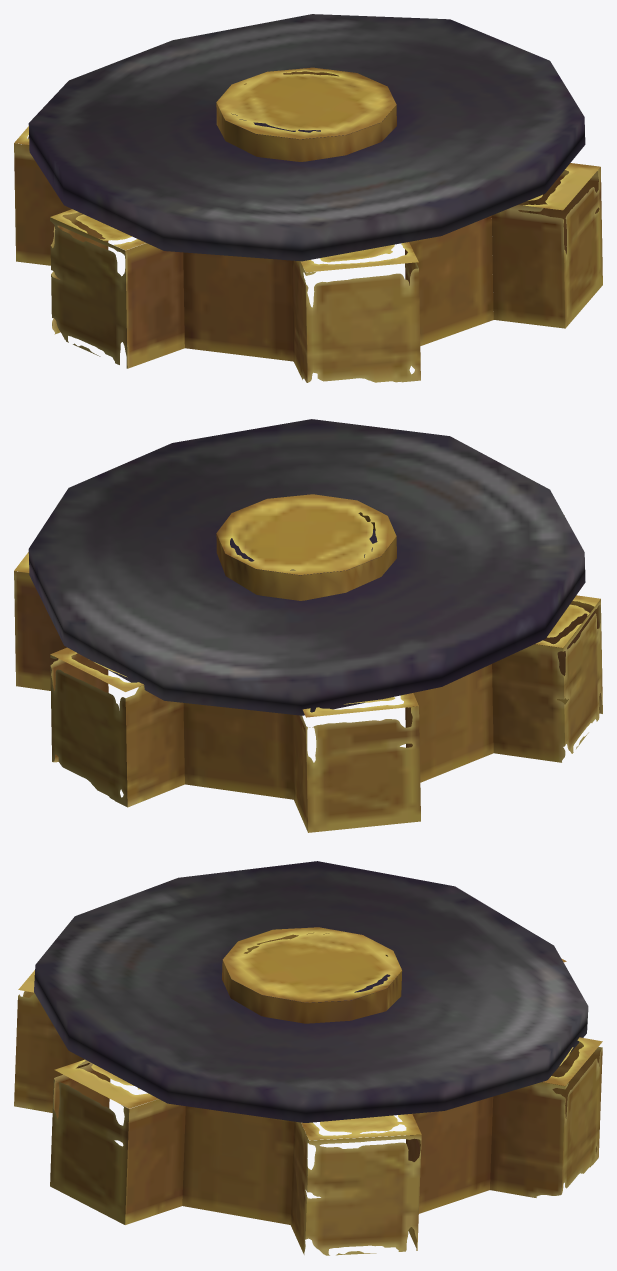
File: disco_izquierda.obj
The picture shows the model from 3 angles, top to bottom: view 1: azimuth 30°, elevation 25°; view 2: azimuth 150°, elevation 25°; view 3: azimuth 270°, elevation 25°; orthographic projection.
Visible parts, largest first — view 1: turntable:disco_izquierda; view 2: turntable:disco_izquierda; view 3: turntable:disco_izquierda.
Part boxes in pixels (bbox=[...]): turntable:disco_izquierda: bbox=[14, 14, 602, 382]; turntable:disco_izquierda: bbox=[14, 419, 602, 832]; turntable:disco_izquierda: bbox=[14, 861, 602, 1255].
Size of the model in its own units: 0.4522 by 0.1507 by 0.4509.
Materials: 1 (1 with a texture image).
